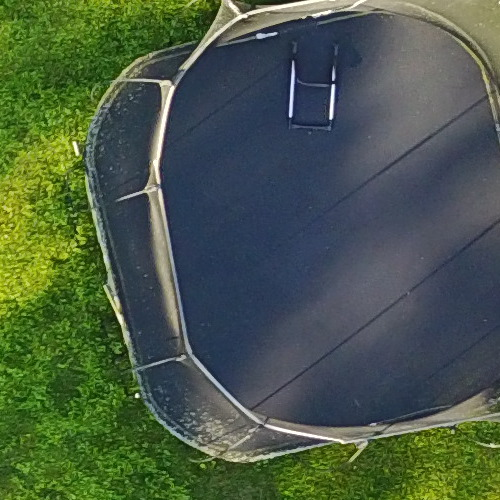trampoline: (61, 5, 500, 481)
